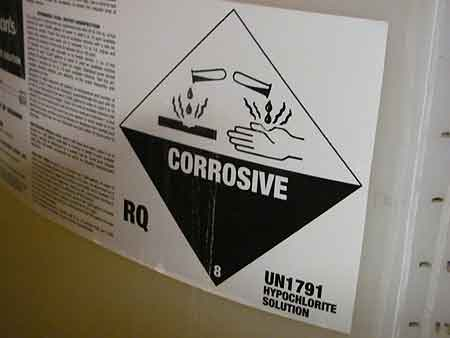Corrosive: (120, 9, 365, 287)
